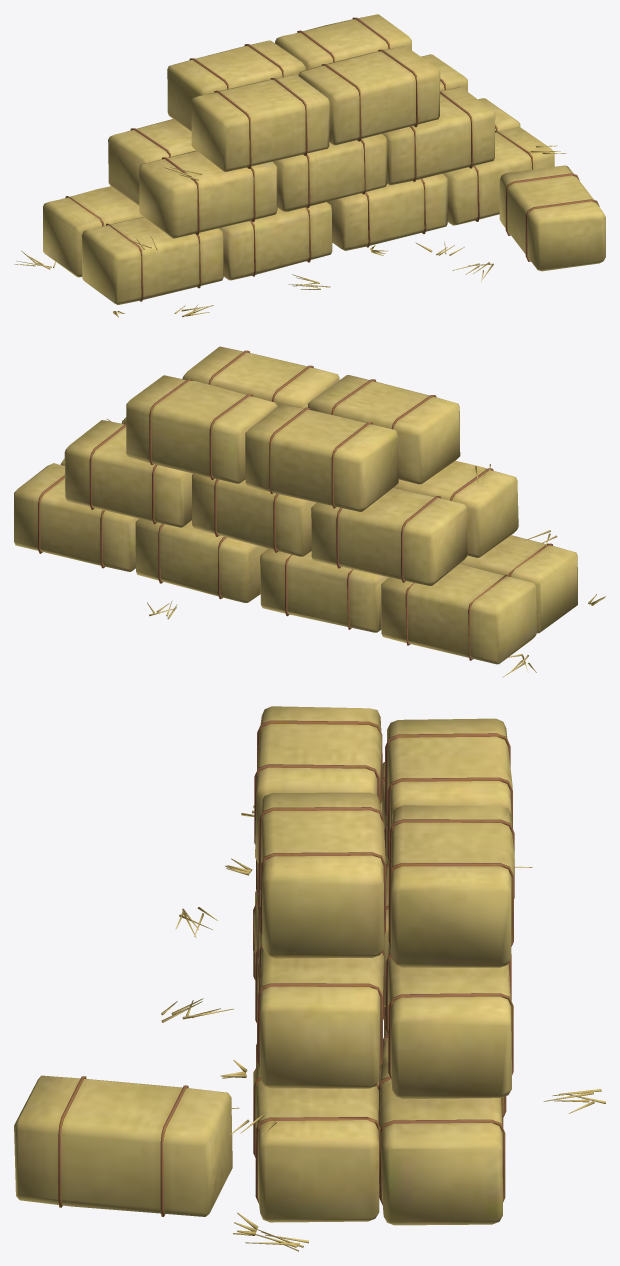
Rendered from hay-bale-stack.glb.
The picture shows the model from 3 angles, top to bottom: view 1: azimuth 30°, elevation 25°; view 2: azimuth 150°, elevation 25°; view 3: azimuth 270°, elevation 25°; orthographic projection. The views are drawn at different scales.
Parts seen in each view (by area): view 1: hay-bale-stack_body; view 2: hay-bale-stack_body; view 3: hay-bale-stack_body.
Part boxes in pixels (x1,y1,x2,y2): hay-bale-stack_body: [14, 14, 605, 317]; hay-bale-stack_body: [14, 346, 605, 677]; hay-bale-stack_body: [14, 706, 605, 1251].
Size of the model in its own units: 3.57 by 1.1 by 2.24.
Materials: 1 (1 with a texture image).
